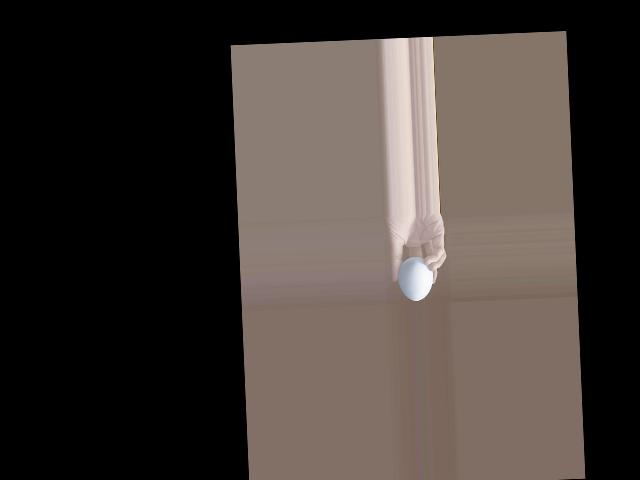egg: (398, 256, 434, 302)
